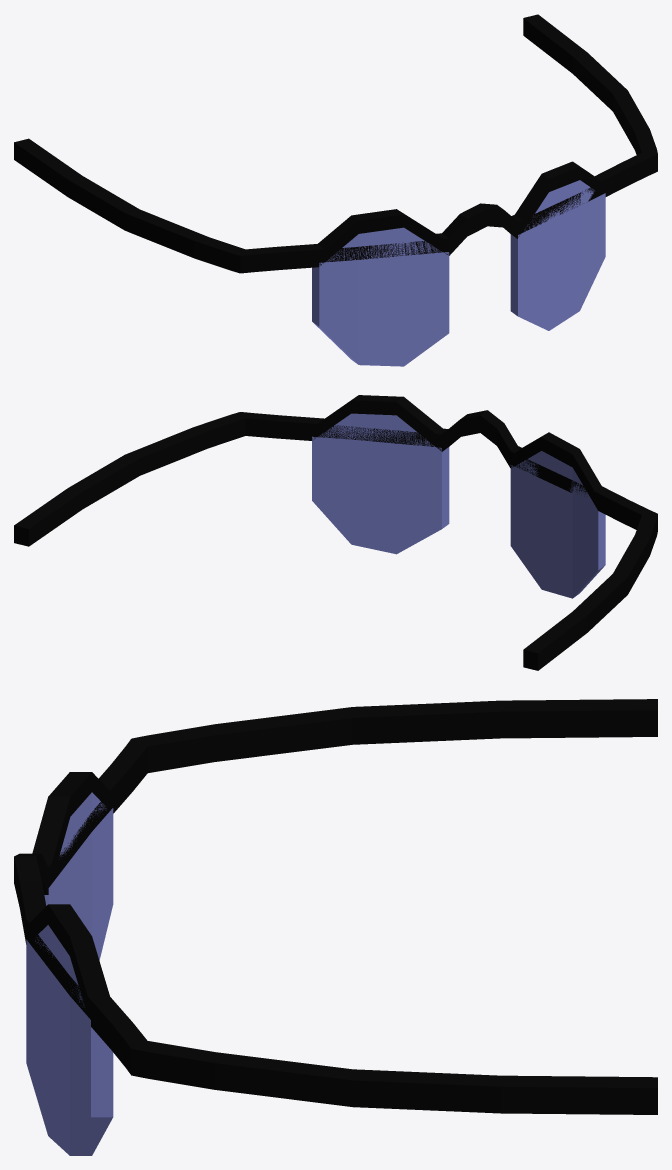
Rendered from TeacherGlasses.fbx.
3 renders of one model, top to bottom at view 1: azimuth 30°, elevation 25°; view 2: azimuth 150°, elevation 25°; view 3: azimuth 270°, elevation 25°, orthographic. The views are drawn at different scales.
Visible parts, largest first — view 1: NormalGlasses, SupriseGlasses; view 2: NormalGlasses, SupriseGlasses; view 3: NormalGlasses, SupriseGlasses.
Boxes of the visible parts, x1,y1,x2,y2 form: NormalGlasses: (14, 14, 657, 362); SupriseGlasses: (14, 22, 657, 366); NormalGlasses: (14, 410, 657, 666); SupriseGlasses: (14, 395, 657, 670); NormalGlasses: (14, 699, 657, 1148); SupriseGlasses: (14, 717, 657, 1155).
Size of the model in its own units: 3.02 by 0.8373 by 2.11.
